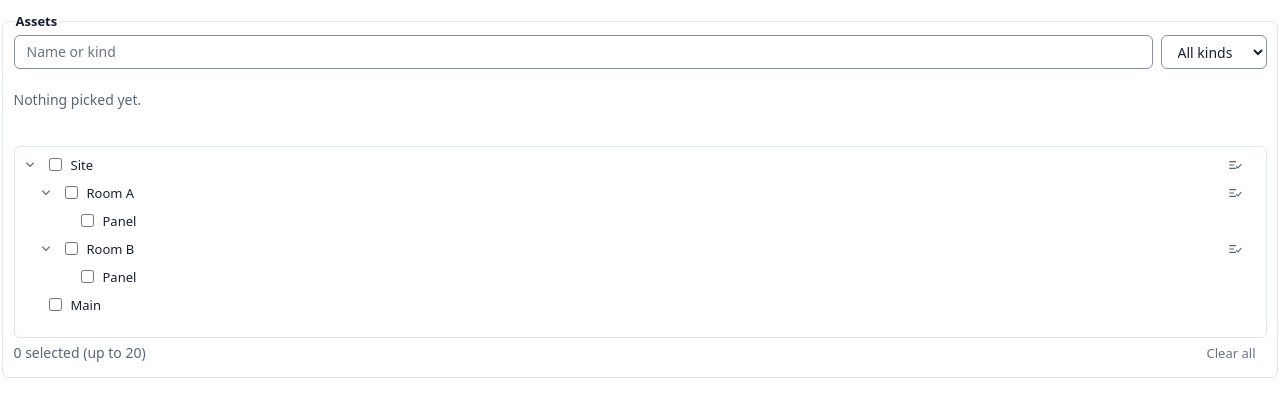
AssetPicker search › narrows the rows to a typed name or kind, whatever the case, keeps the ancestors and counts the matches
This screenshot has width=1280, height=395.
In the search field named "Search assets": (583, 52) top-left (14, 35), bottom-right (1152, 69), type "PANEL"
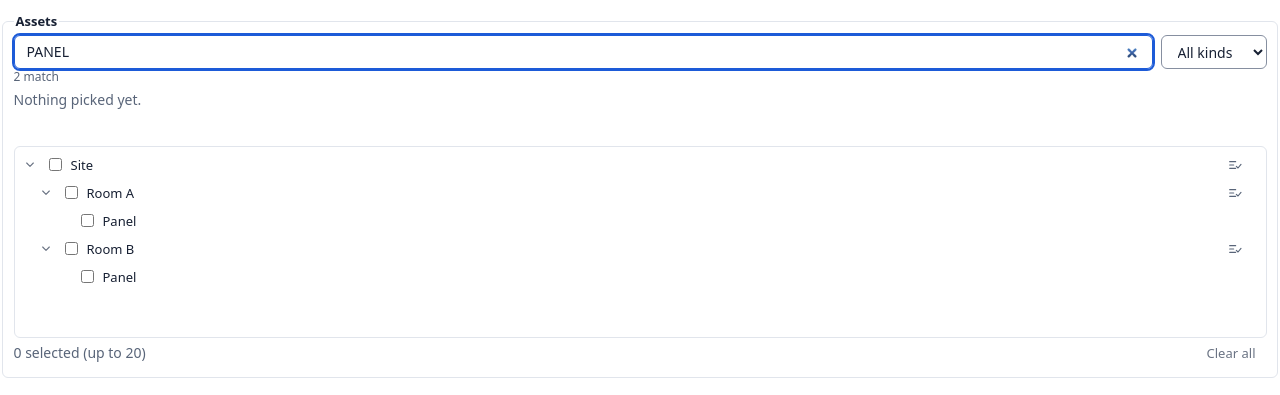
Expected: the text "2 match" is shown, top-left (14, 68), bottom-right (59, 85)
Replace the text in the search field named "Search assets" with "meter": (583, 52) top-left (14, 35), bottom-right (1152, 69)
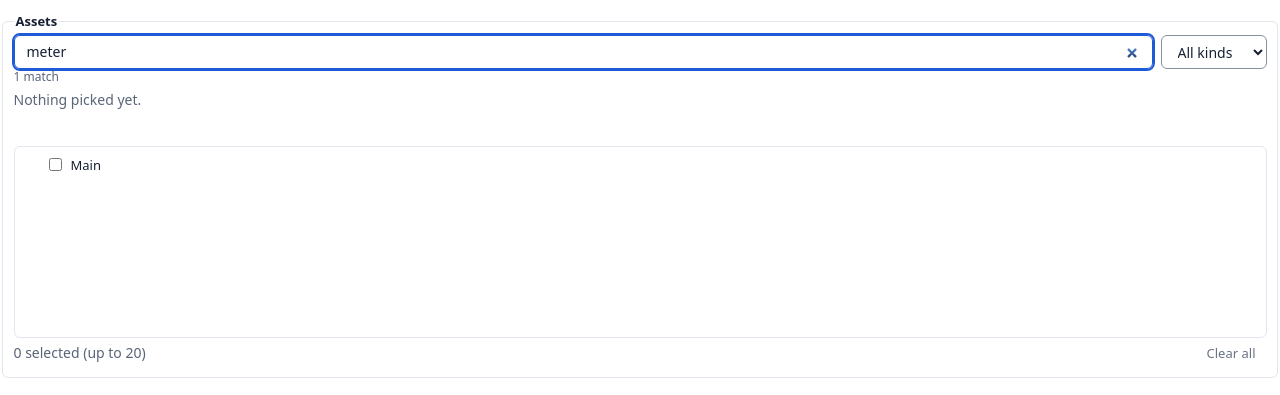
Expected: the text "1 match" is shown, top-left (14, 68), bottom-right (59, 85)
Replace the text in the search field named "Search assets" with "room a": (583, 52) top-left (14, 35), bottom-right (1152, 69)
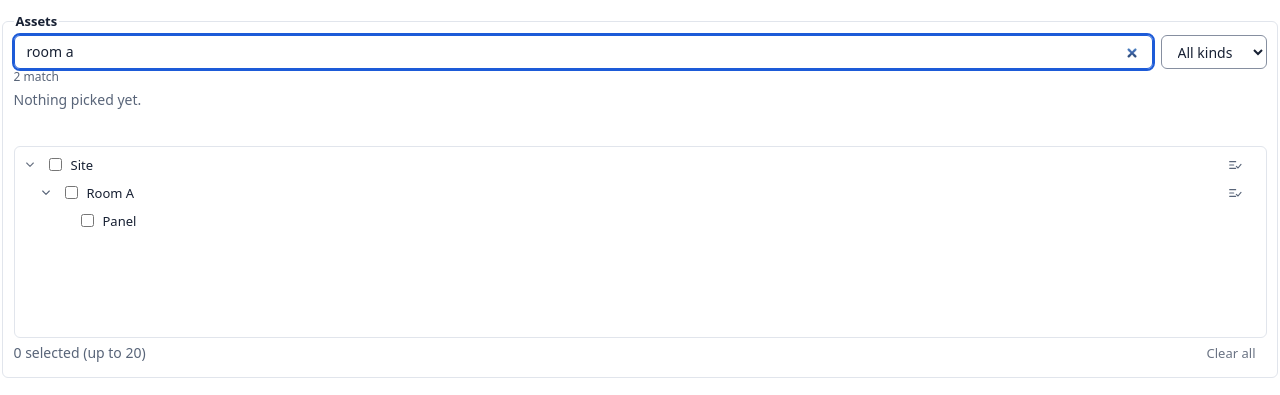
Expected: the text "2 match" is shown, top-left (14, 68), bottom-right (59, 85)
Clear the search field named "Search assets": (583, 52) top-left (14, 35), bottom-right (1152, 69)
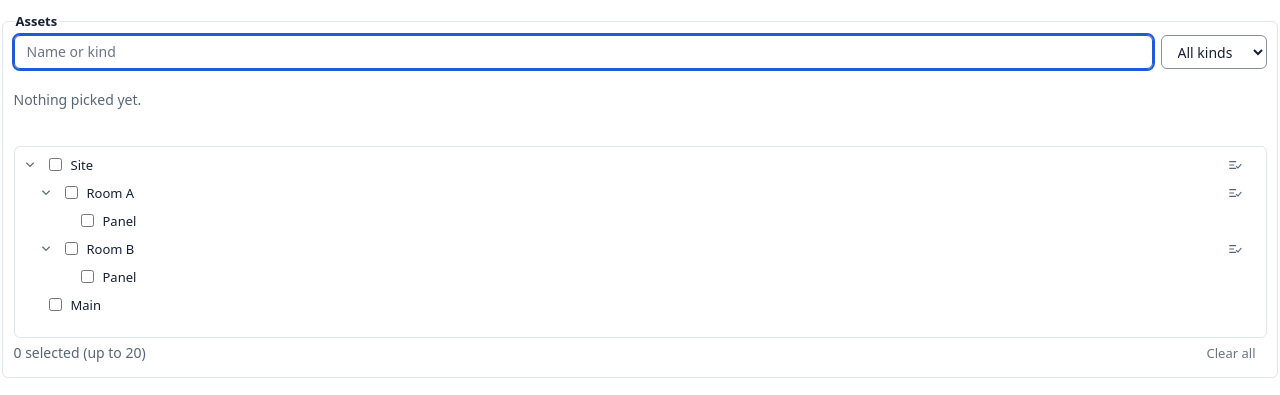
Expected: the number of checkboxes is 6, top-left (48, 158), bottom-right (62, 171); top-left (64, 186), bottom-right (78, 199); top-left (80, 214), bottom-right (94, 227); top-left (64, 242), bottom-right (78, 255); top-left (80, 270), bottom-right (94, 283); top-left (48, 298), bottom-right (62, 311)
